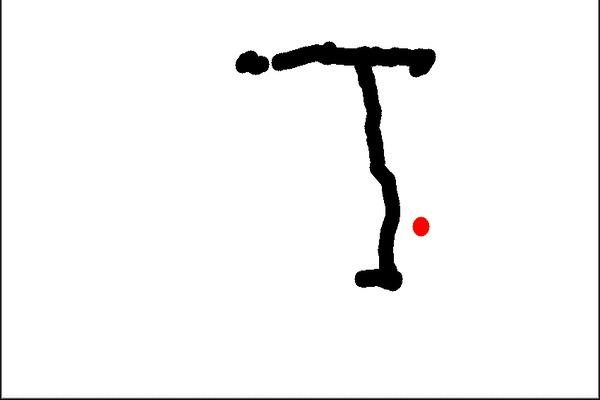T: (233, 30, 439, 293)
